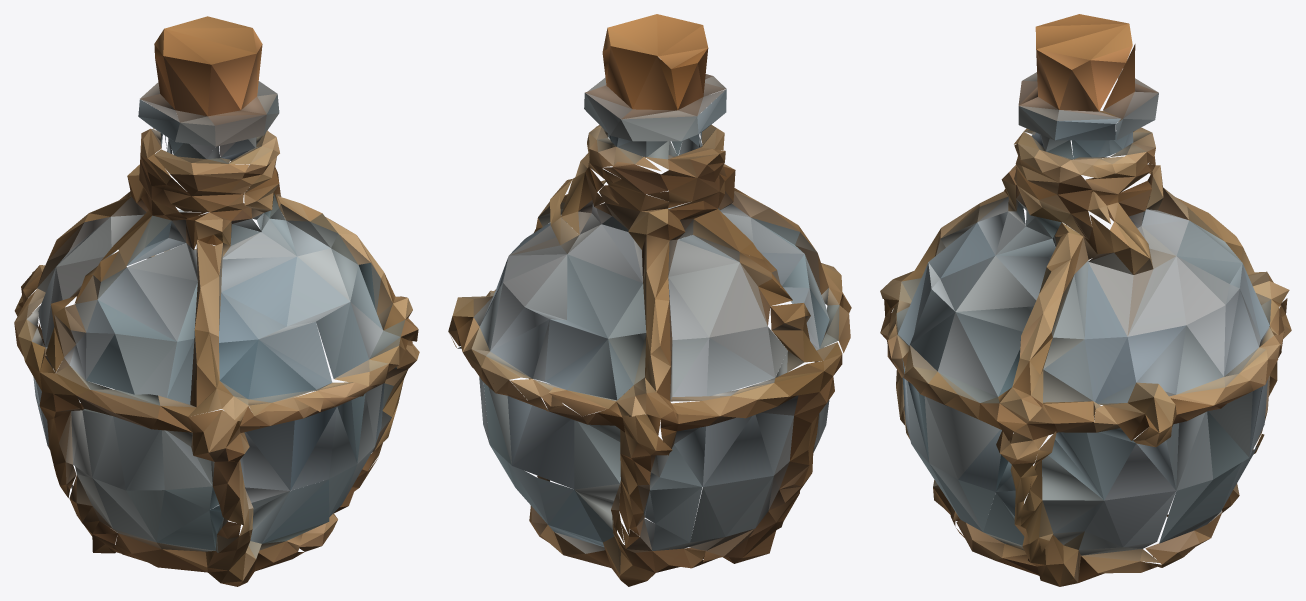
The model's file is building-expedition-canteen.glb.
3 renders of one model, left to right at view 1: azimuth 30°, elevation 25°; view 2: azimuth 150°, elevation 25°; view 3: azimuth 270°, elevation 25°, orthographic.
Parts seen in each view (by area): view 1: 0_expedition-canteen; view 2: 0_expedition-canteen; view 3: 0_expedition-canteen.
Boxes of the visible parts, left/top/right/bottom form: 0_expedition-canteen: left=14, top=16, right=419, bottom=586; 0_expedition-canteen: left=448, top=14, right=851, bottom=586; 0_expedition-canteen: left=880, top=14, right=1291, bottom=586.
Bounding box in the file's own units: 0.2169 × 0.3 × 0.2196.
